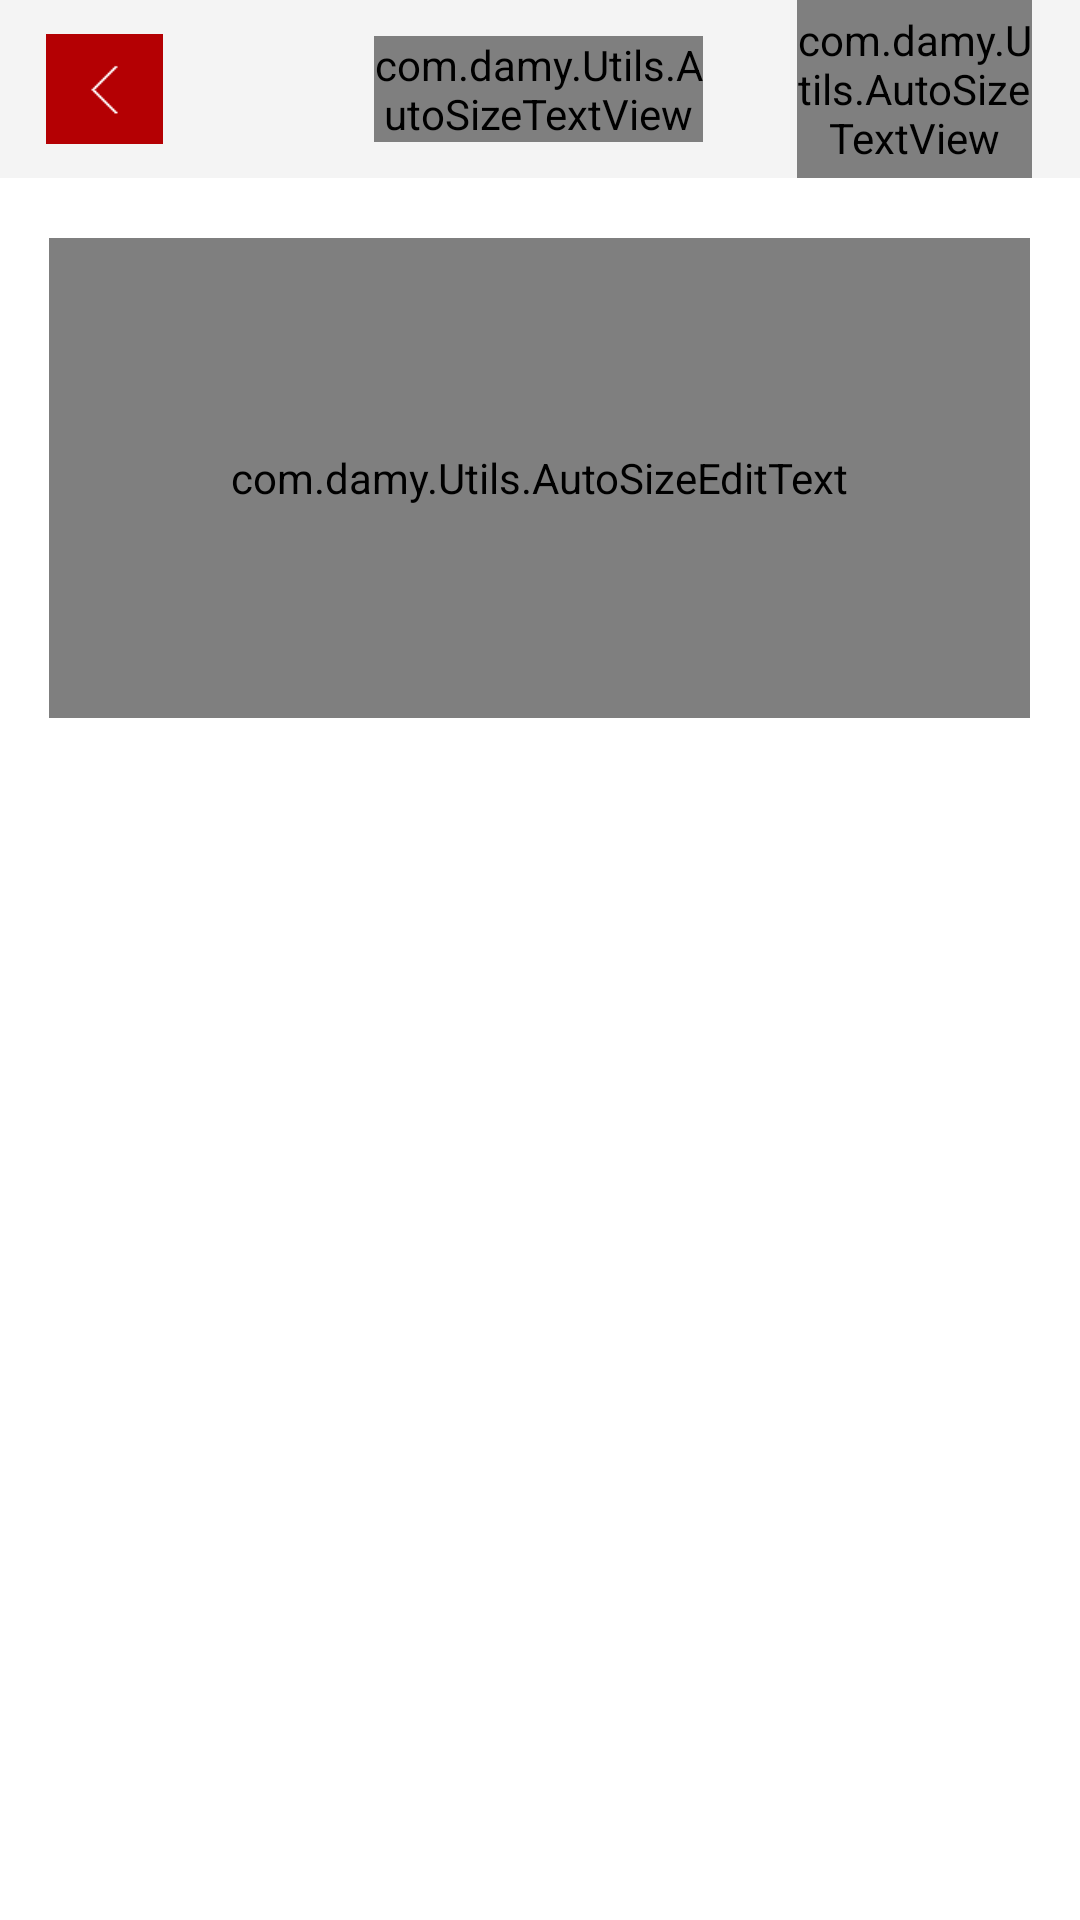

Icon click points for this 1080x1920 phone screenshot, format (x=x, y=y):
navigate topleft: (x=104, y=89)
